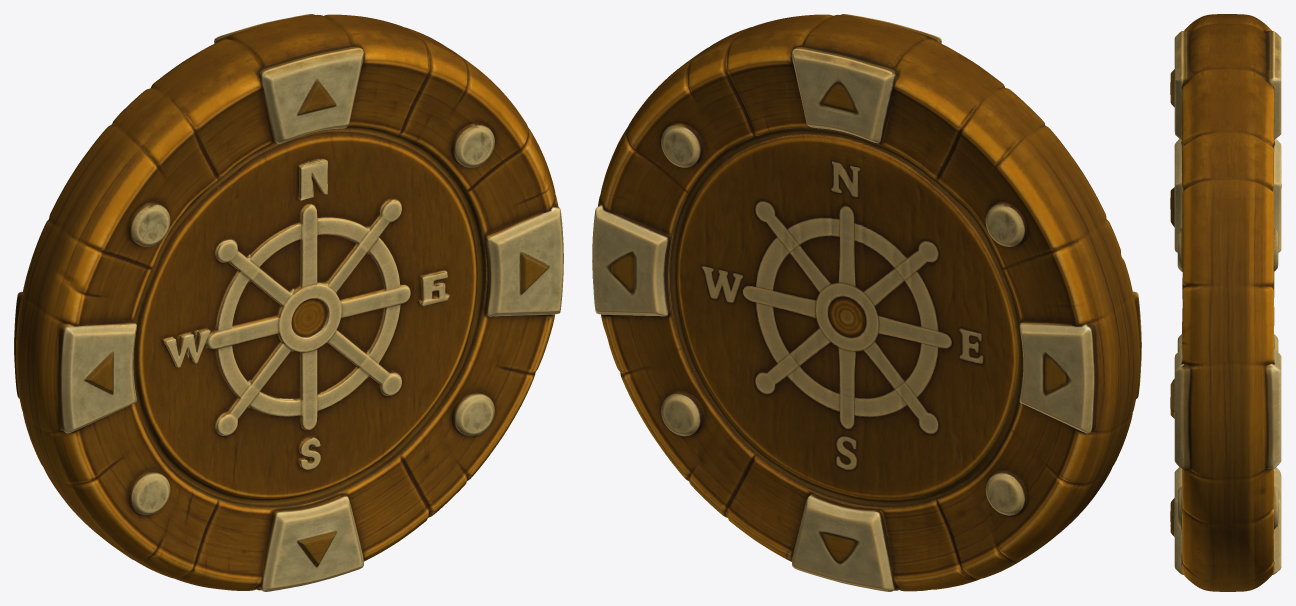
The model's file is chip_2.glb.
3 renders of one model, left to right at view 1: azimuth 30°, elevation 25°; view 2: azimuth 150°, elevation 25°; view 3: azimuth 270°, elevation 25°, orthographic. The views are drawn at different scales.
Bounding box in the file's own units: 1.9 × 1.9 × 0.3638.
Materials: 1 (1 with a texture image).
